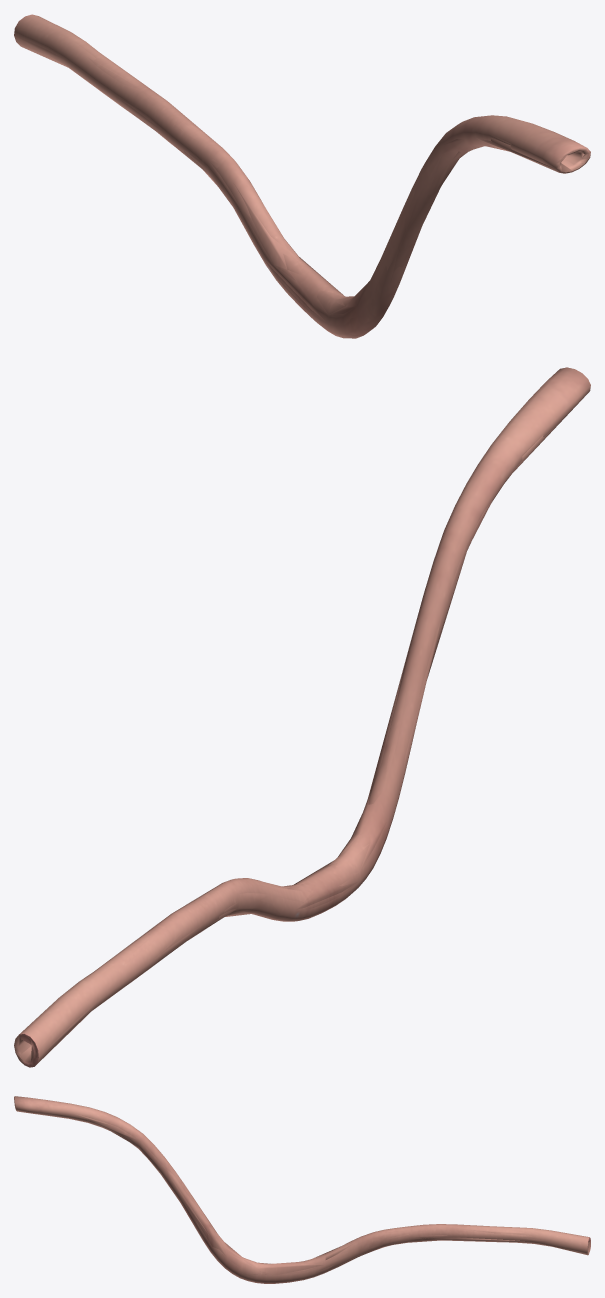
The model's file is Esophagus.fbx.
3 views of the same model, one above another, from view 1: azimuth 30°, elevation 25°; view 2: azimuth 150°, elevation 25°; view 3: azimuth 270°, elevation 25° (orthographic). The views are drawn at different scales.
Visible parts, largest first — view 1: Esophagus high, Esophagus, Esophagus low; view 2: Esophagus high, Esophagus, Esophagus low; view 3: Esophagus high, Esophagus, Esophagus low.
Part boxes in pixels (left/top/right/bottom): Esophagus high: left=15, top=28, right=590, bottom=338; Esophagus: left=14, top=14, right=590, bottom=338; Esophagus low: left=22, top=34, right=584, bottom=323; Esophagus high: left=14, top=367, right=590, bottom=1067; Esophagus: left=15, top=369, right=563, bottom=1065; Esophagus low: left=14, top=392, right=588, bottom=1062; Esophagus high: left=14, top=1096, right=590, bottom=1283; Esophagus: left=14, top=1096, right=590, bottom=1280; Esophagus low: left=35, top=1112, right=590, bottom=1282.
Bounding box in the file's own units: 0.636 × 5.63 × 15.74.
Materials: 1 (1 with a texture image).
